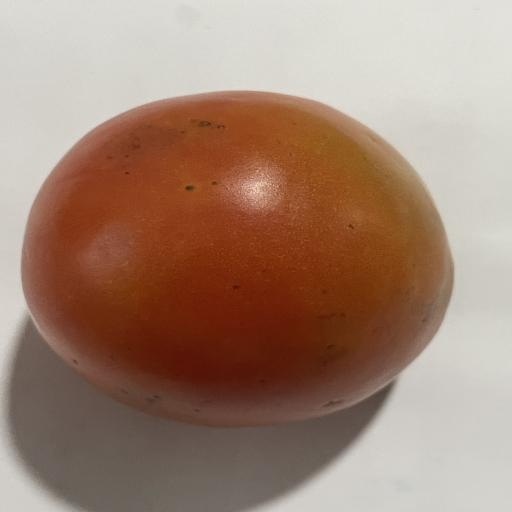ripe: (22, 91, 453, 426)
